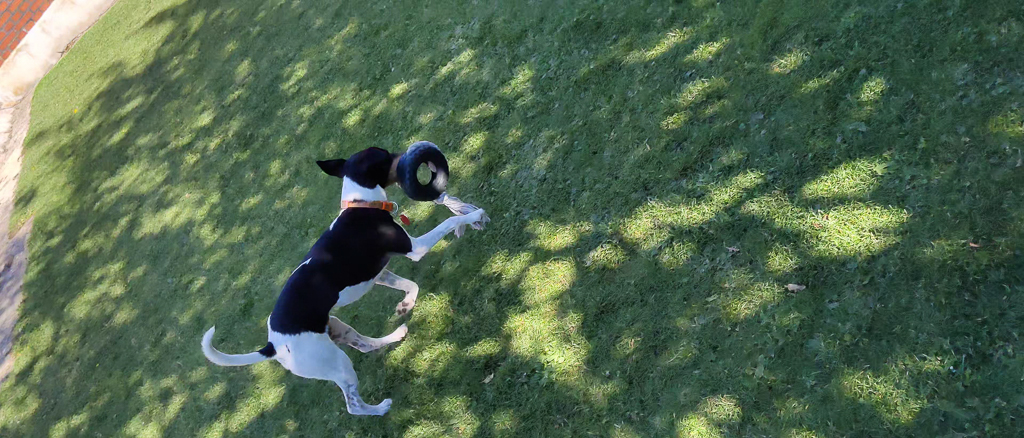Dog: (189, 133, 496, 428)
